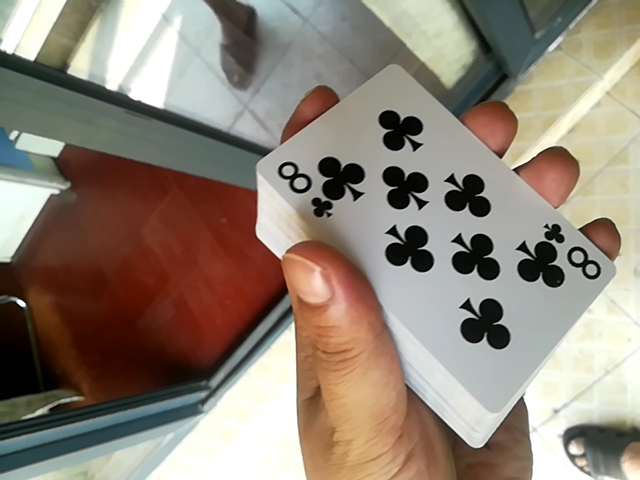mh 8: (185, 10, 629, 441)
